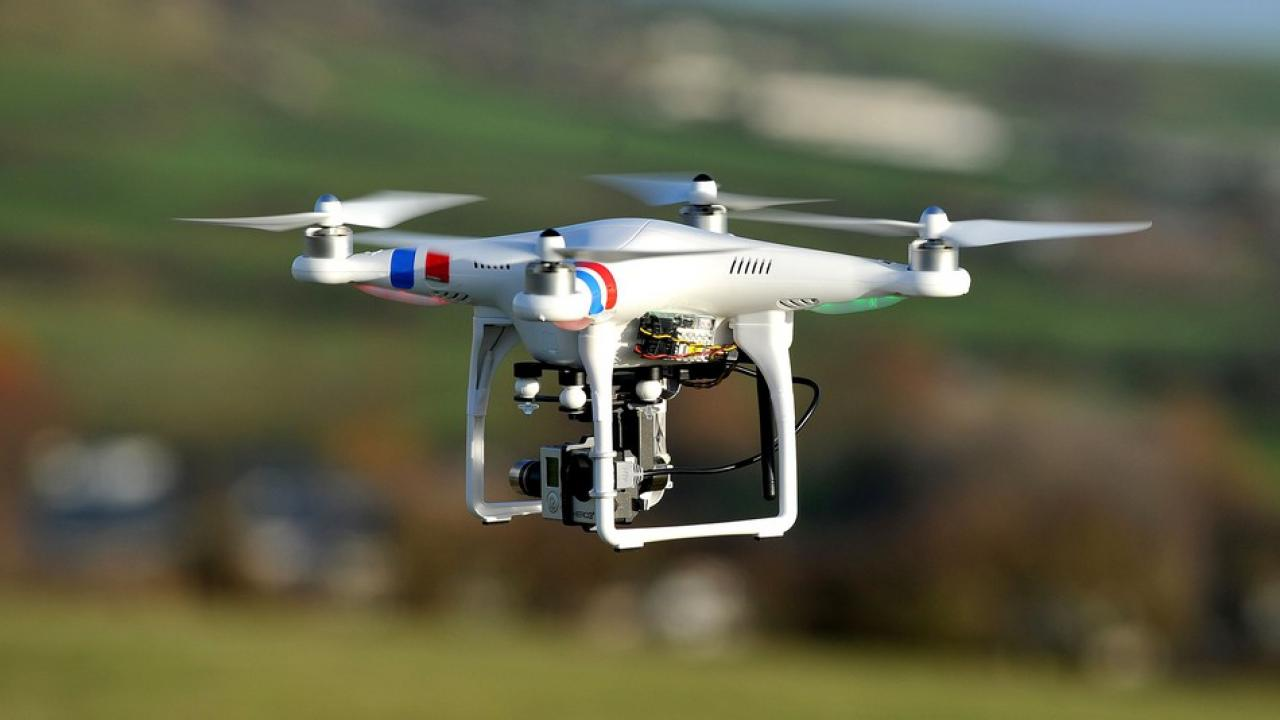Drone: (157, 158, 1163, 557)
